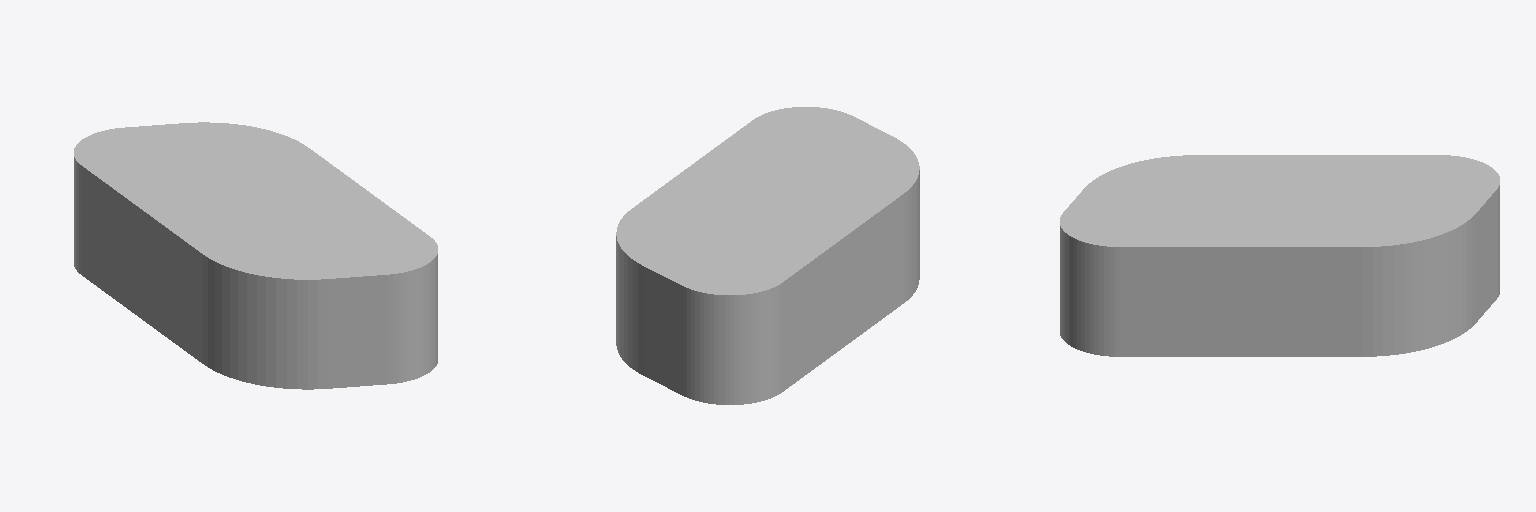
The model's file is guardBumperLeft.obj.
3 renders of one model, left to right at view 1: azimuth 30°, elevation 25°; view 2: azimuth 150°, elevation 25°; view 3: azimuth 270°, elevation 25°, orthographic.
Parts seen in each view (by area): view 1: EntryGuide.014_Cube.129; view 2: EntryGuide.014_Cube.129; view 3: EntryGuide.014_Cube.129.
Boxes of the visible parts, box(x1,y1,x2,y2) form: EntryGuide.014_Cube.129: box(74, 122, 437, 389); EntryGuide.014_Cube.129: box(616, 107, 919, 404); EntryGuide.014_Cube.129: box(1060, 155, 1499, 356).
Size of the model in its own units: 1.8 by 1 by 3.64.